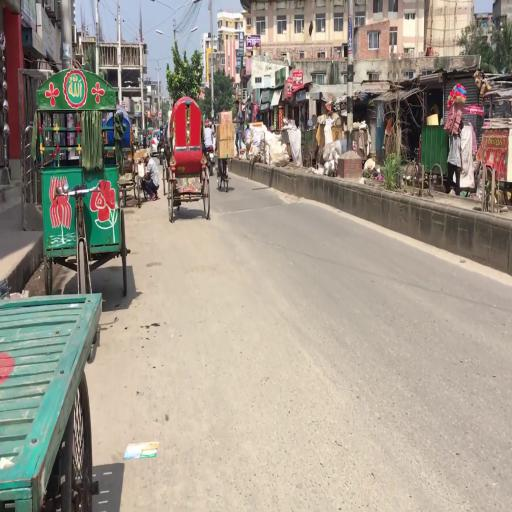bicycle: (216, 145, 232, 194)
car: (151, 130, 159, 158)
motorbike: (206, 121, 216, 176), (158, 126, 165, 162)
rickshaw: (169, 97, 210, 221), (107, 110, 141, 208)
